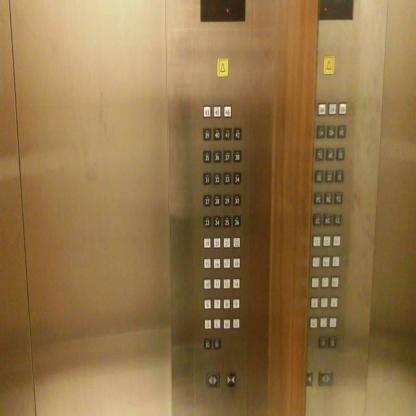10: (203, 277, 211, 289)
11: (213, 276, 221, 289)
12: (223, 276, 230, 289)
14: (232, 276, 240, 289)
15: (204, 256, 212, 269)
16: (213, 256, 221, 269)
17: (223, 256, 230, 269)
18: (233, 256, 240, 269)
19: (203, 235, 211, 248)
20: (213, 235, 221, 248)
21: (223, 235, 230, 248)
22: (233, 235, 240, 248)
23: (202, 214, 212, 227)
24: (212, 214, 222, 227)
25: (222, 214, 231, 227)
26: (232, 214, 241, 227)
27: (202, 192, 212, 206)
28: (212, 192, 222, 206)
29: (222, 192, 231, 206)
30: (232, 192, 241, 206)
31: (202, 170, 212, 184)
32: (212, 170, 222, 184)
33: (222, 170, 231, 185)
34: (232, 170, 242, 185)
35: (202, 148, 212, 162)
36: (212, 148, 222, 162)
37: (222, 148, 232, 162)
38: (232, 148, 242, 162)
39: (202, 126, 212, 140)
40: (212, 126, 222, 140)
41: (222, 126, 232, 140)
42: (233, 126, 242, 140)
43: (202, 103, 212, 118)
45: (212, 103, 222, 118)
46: (223, 103, 232, 118)
6: (204, 297, 212, 309)
7: (213, 297, 221, 309)
8: (222, 297, 230, 309)
9: (232, 297, 240, 309)
B1: (213, 337, 221, 349)
B2: (204, 338, 212, 350)
G: (204, 317, 212, 330)
L: (213, 317, 221, 330)
M: (223, 317, 230, 330)
UG: (232, 317, 240, 329)
alarm: (323, 54, 335, 76), (217, 56, 228, 77)
close: (225, 370, 237, 387)
open: (205, 371, 220, 388), (318, 369, 333, 386)
unknown: (336, 146, 346, 161), (334, 190, 344, 205), (313, 191, 323, 206), (323, 212, 333, 227), (309, 314, 318, 330), (336, 124, 346, 138), (314, 169, 324, 183), (334, 169, 344, 183), (328, 101, 337, 116), (338, 101, 347, 116), (316, 147, 325, 162), (324, 190, 333, 205), (313, 211, 322, 226), (333, 211, 342, 226), (311, 254, 320, 269), (331, 253, 340, 268), (330, 273, 339, 288), (318, 335, 327, 350), (310, 294, 318, 310), (317, 102, 326, 116), (316, 124, 325, 138), (327, 124, 336, 138), (326, 147, 335, 161), (325, 169, 334, 183), (332, 233, 341, 247), (322, 233, 331, 247), (321, 254, 330, 268), (320, 274, 329, 288), (320, 294, 329, 308), (319, 315, 328, 329), (311, 274, 319, 289), (330, 294, 338, 309), (329, 314, 337, 329), (312, 233, 320, 247), (329, 334, 337, 348)
